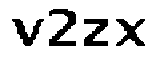2: (45, 5, 78, 49)
v: (12, 18, 41, 47)
x: (113, 16, 146, 50)
z: (81, 17, 110, 48)
